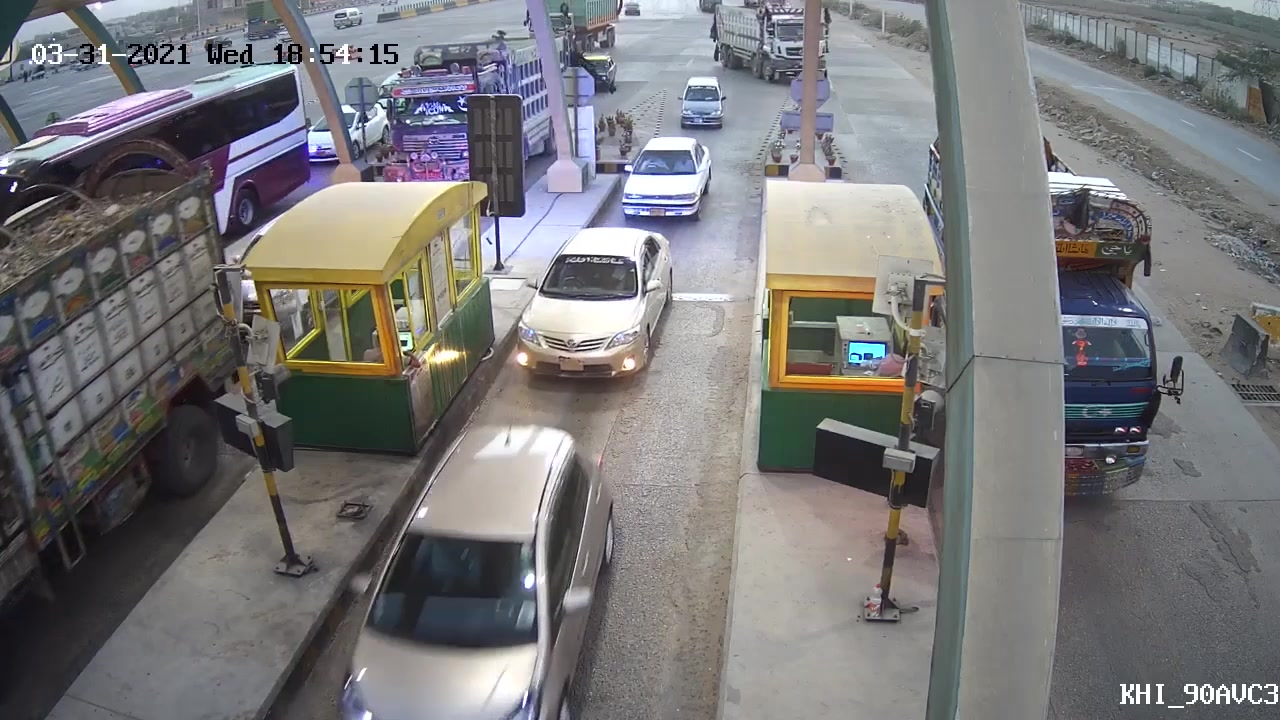F1: (509, 227, 684, 390), (615, 132, 719, 219)
